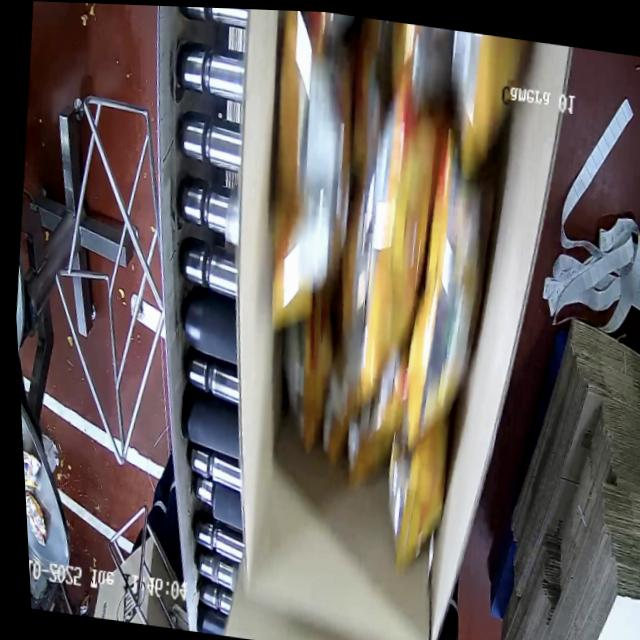FRENCH_CHEESE: (217, 8, 531, 555)
